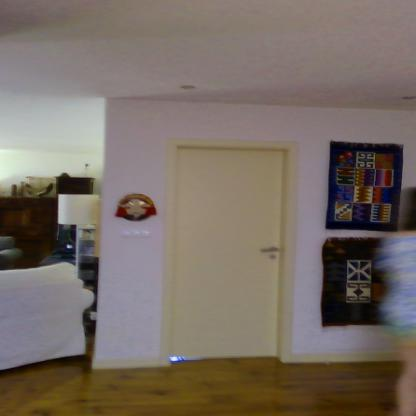door: (177, 147, 282, 360)
lever: (260, 247, 280, 255)
